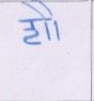o_matra: (45, 4, 63, 39)
